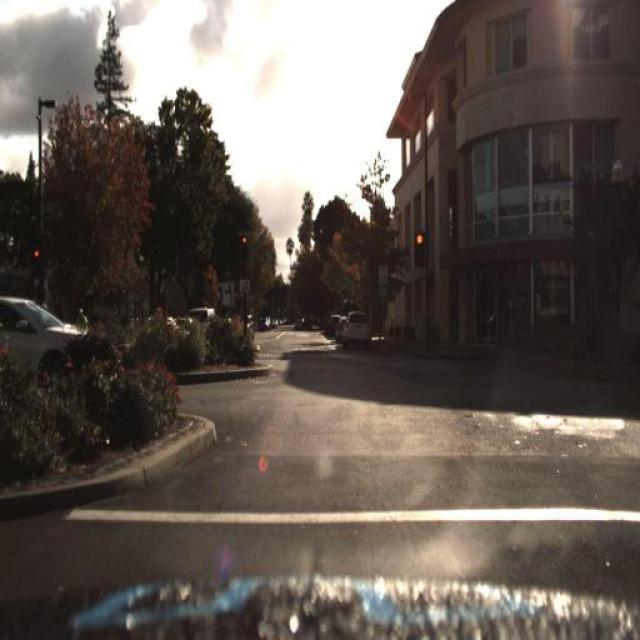car: (2, 287, 112, 397), (338, 304, 377, 348), (240, 314, 256, 337)
trafficLight: (504, 292, 520, 346), (509, 294, 520, 340)
trafficLight-Green: (30, 240, 42, 272)
trafficLight-RedLeft: (413, 227, 425, 268), (237, 230, 249, 269)
